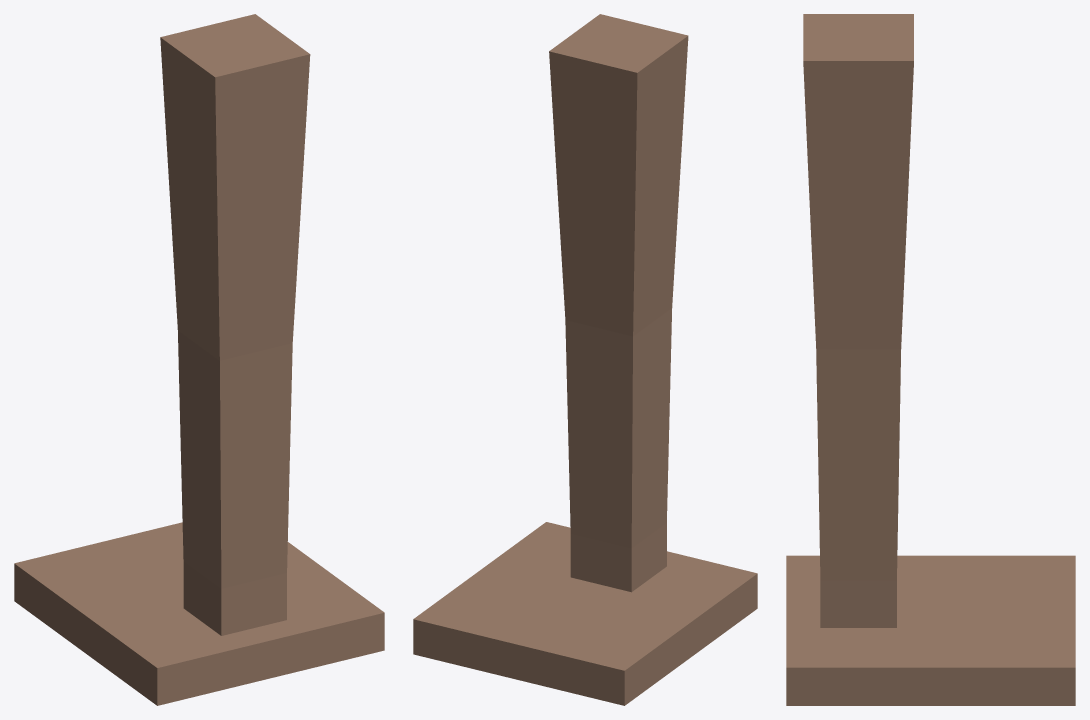
The model's file is animal_turkey_leg.obj.
3 renders of one model, left to right at view 1: azimuth 30°, elevation 25°; view 2: azimuth 150°, elevation 25°; view 3: azimuth 270°, elevation 25°, orthographic. The views are drawn at different scales.
Visible parts, largest first — view 1: animal_turkey_leg; view 2: animal_turkey_leg; view 3: animal_turkey_leg.
Boxes of the visible parts, <box> form: animal_turkey_leg: <box>14,14,384,705</box>; animal_turkey_leg: <box>413,14,757,705</box>; animal_turkey_leg: <box>786,14,1075,705</box>.
Bounding box in the file's own units: 0.0818 × 0.2084 × 0.0892.
